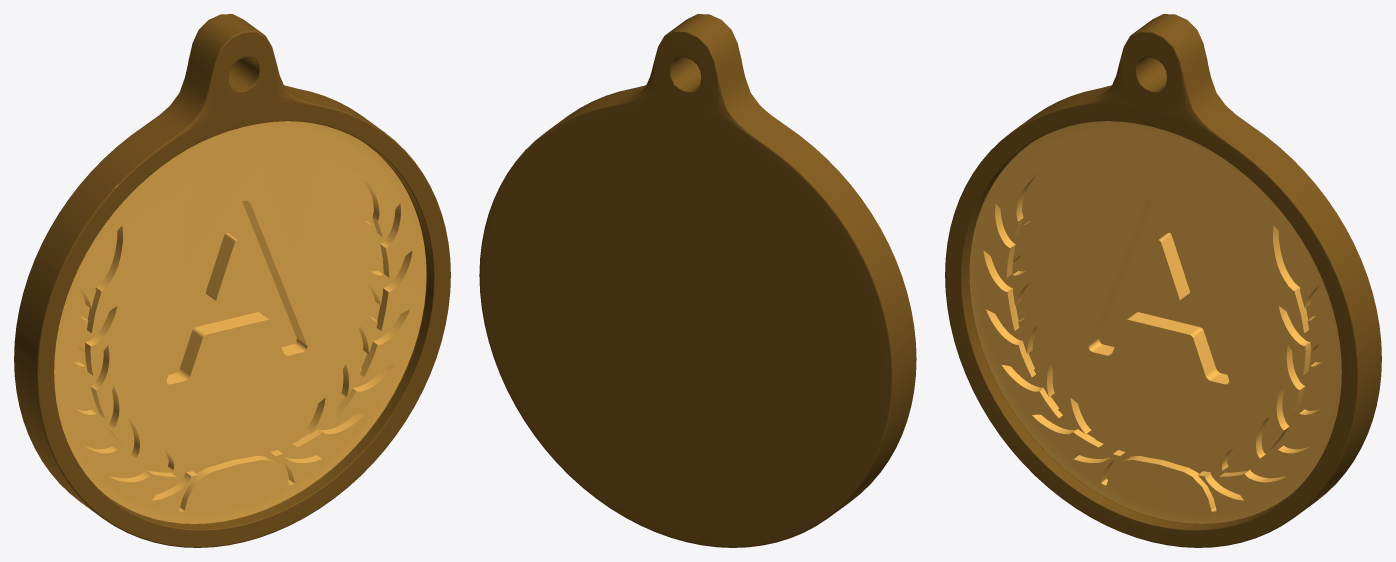
File: medalA.glb
The picture shows the model from 3 angles, left to right: view 1: azimuth 30°, elevation 25°; view 2: azimuth 150°, elevation 25°; view 3: azimuth 330°, elevation 25°; orthographic projection.
Visible parts, largest first — view 1: medalA; view 2: medalA; view 3: medalA.
Part boxes in pixels (bbox=[...]): medalA: bbox=[14, 14, 450, 547]; medalA: bbox=[479, 14, 916, 547]; medalA: bbox=[945, 14, 1381, 547].
Size of the model in its own units: 19.72 by 23.25 by 2.
Materials: 1 (1 with a texture image).
